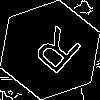R: (25, 25, 85, 83)
